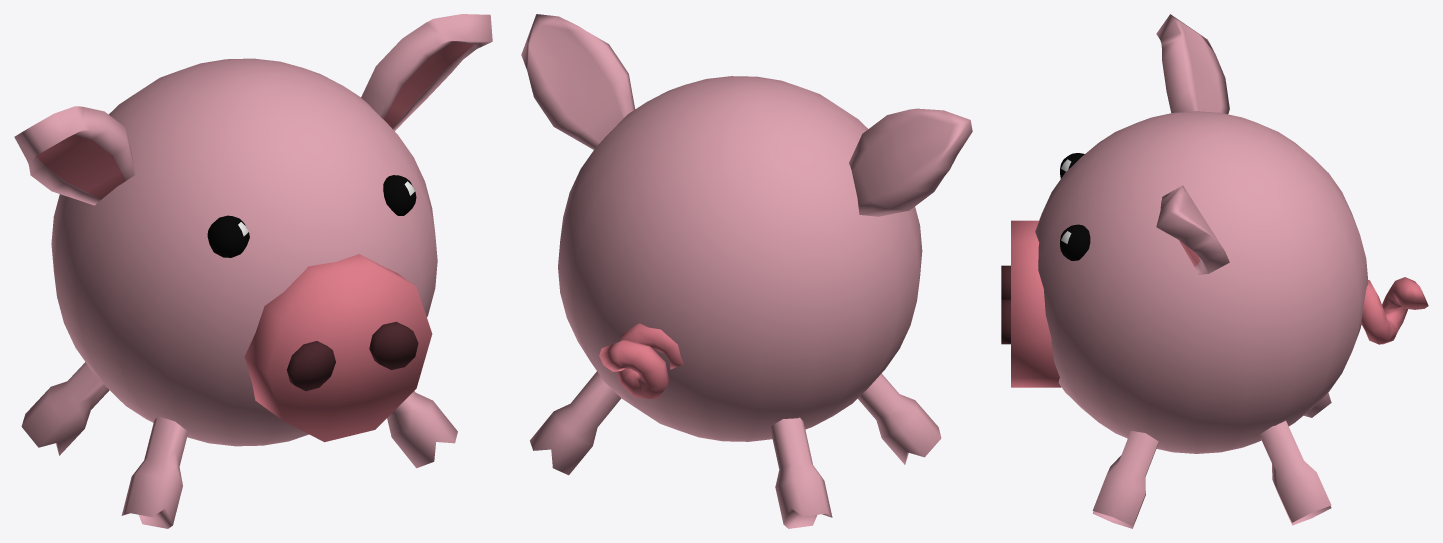
The model's file is Pig.fbx.
3 views of the same model, side by side, from view 1: azimuth 30°, elevation 25°; view 2: azimuth 150°, elevation 25°; view 3: azimuth 270°, elevation 25° (orthographic). The views are drawn at different scales.
Visible parts, largest first — view 1: Pig; view 2: Pig; view 3: Pig.
Boxes of the visible parts, x1,y1,x2,y2 form: Pig: (14, 14, 492, 528); Pig: (521, 14, 972, 528); Pig: (1001, 14, 1428, 528).
Bounding box in the file's own units: 27.38 × 23.25 × 24.94.
